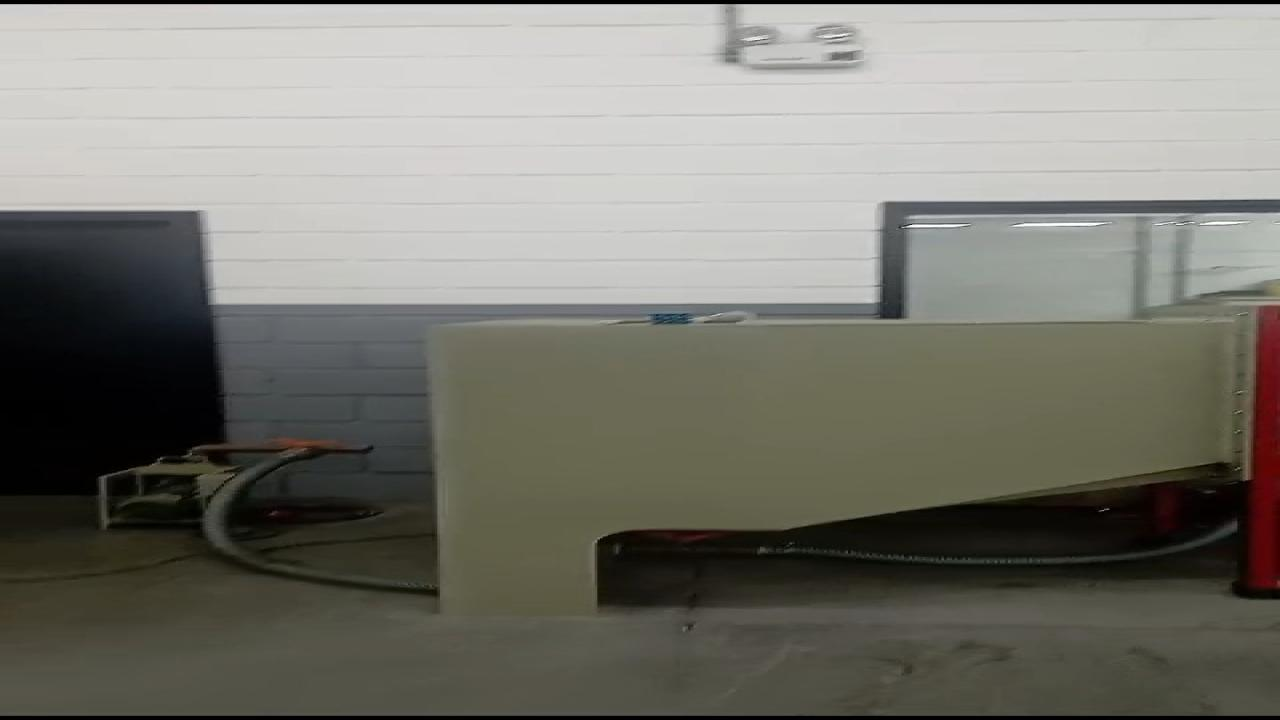Cube: (648, 312, 694, 324)
